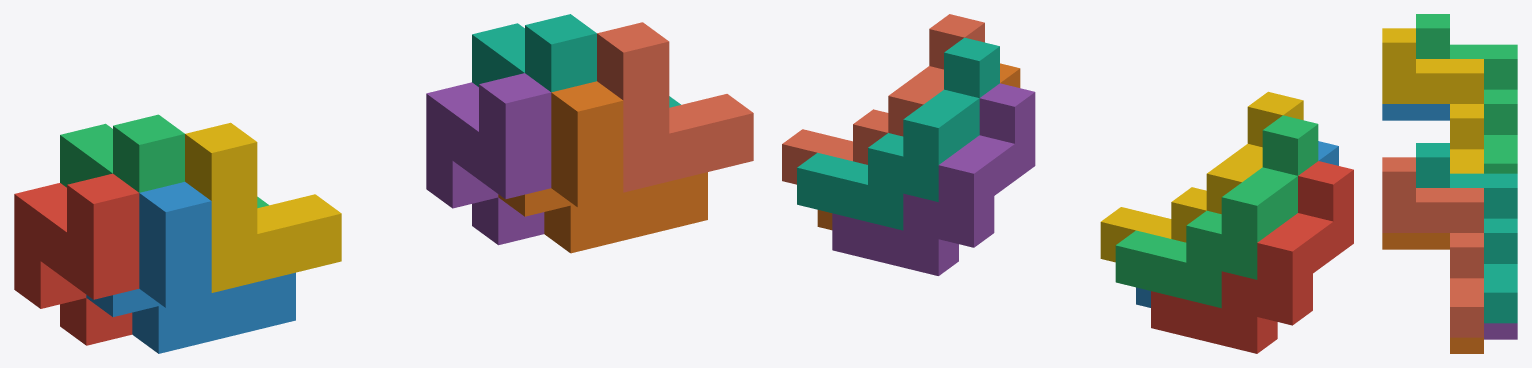
The model's file is tiling.obj.
3 views of the same model, side by side, from view 1: azimuth 30°, elevation 25°; view 2: azimuth 150°, elevation 25°; view 3: azimuth 270°, elevation 25° (orthographic). The views are drawn at different scales.
Parts seen in each view (by area): view 1: copy_1_domain_1, copy_1_domain_5, copy_1_domain_6, copy_1_domain_2, copy_1_domain_4, copy_1_domain_8, copy_1_domain_3, copy_1_domain_7; view 2: copy_1_domain_5, copy_1_domain_1, copy_1_domain_3, copy_1_domain_7, copy_1_domain_4, copy_1_domain_8, copy_1_domain_6, copy_1_domain_2; view 3: copy_1_domain_8, copy_1_domain_4, copy_1_domain_7, copy_1_domain_3, copy_1_domain_6, copy_1_domain_2, copy_1_domain_5.
Part boxes in pixels (left/top/right/bottom): copy_1_domain_1: left=14, top=173, right=139, bottom=345; copy_1_domain_5: left=426, top=73, right=551, bottom=245; copy_1_domain_6: left=498, top=81, right=707, bottom=253; copy_1_domain_2: left=86, top=182, right=295, bottom=353; copy_1_domain_4: left=185, top=122, right=341, bottom=292; copy_1_domain_8: left=597, top=22, right=753, bottom=192; copy_1_domain_3: left=60, top=114, right=268, bottom=208; copy_1_domain_7: left=472, top=14, right=680, bottom=107; copy_1_domain_5: left=832, top=83, right=1035, bottom=275; copy_1_domain_1: left=1151, top=161, right=1353, bottom=353; copy_1_domain_3: left=1115, top=115, right=1318, bottom=308; copy_1_domain_7: left=797, top=37, right=999, bottom=230; copy_1_domain_4: left=1100, top=91, right=1303, bottom=262; copy_1_domain_8: left=782, top=14, right=984, bottom=184; copy_1_domain_6: left=817, top=63, right=1020, bottom=230; copy_1_domain_2: left=1136, top=141, right=1338, bottom=307; copy_1_domain_8: left=1382, top=157, right=1483, bottom=337; copy_1_domain_4: left=1382, top=28, right=1483, bottom=173; copy_1_domain_7: left=1416, top=143, right=1517, bottom=323; copy_1_domain_3: left=1416, top=14, right=1517, bottom=173; copy_1_domain_6: left=1382, top=233, right=1483, bottom=353; copy_1_domain_2: left=1382, top=104, right=1449, bottom=120; copy_1_domain_5: left=1484, top=323, right=1517, bottom=339.
Bounding box in the file's own units: 15 × 5 × 4.
